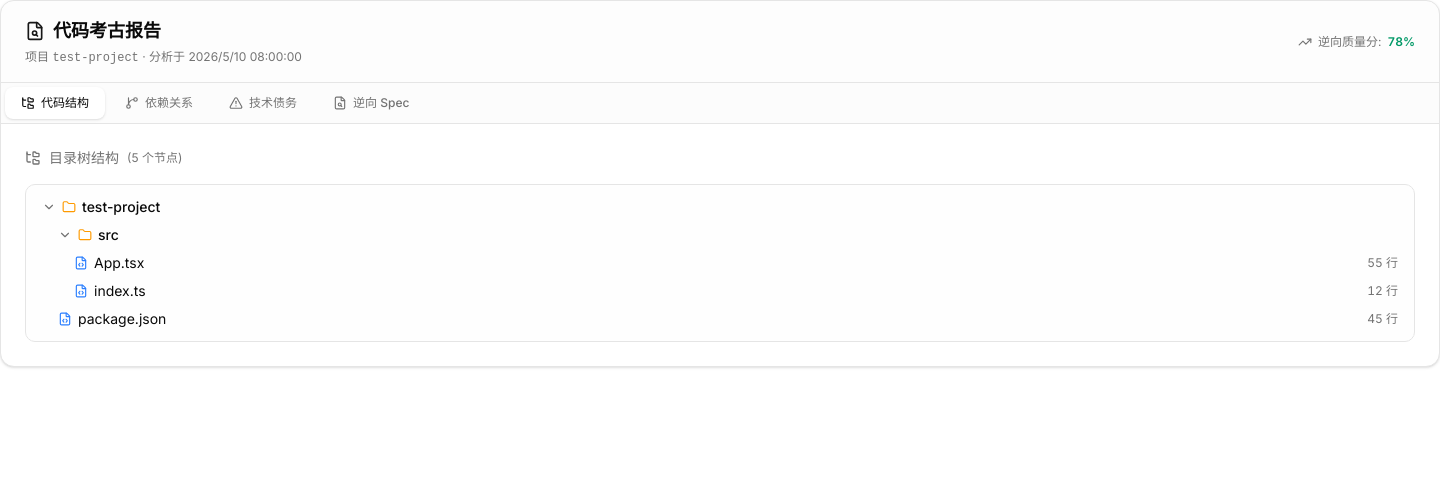
it: ArchaeologyReport › shows sorted tech debt items on tech debt tab
This screenshot has width=1440, height=498.
Click the button "技术债务".
click(263, 103)  # box [213,87,313,119]
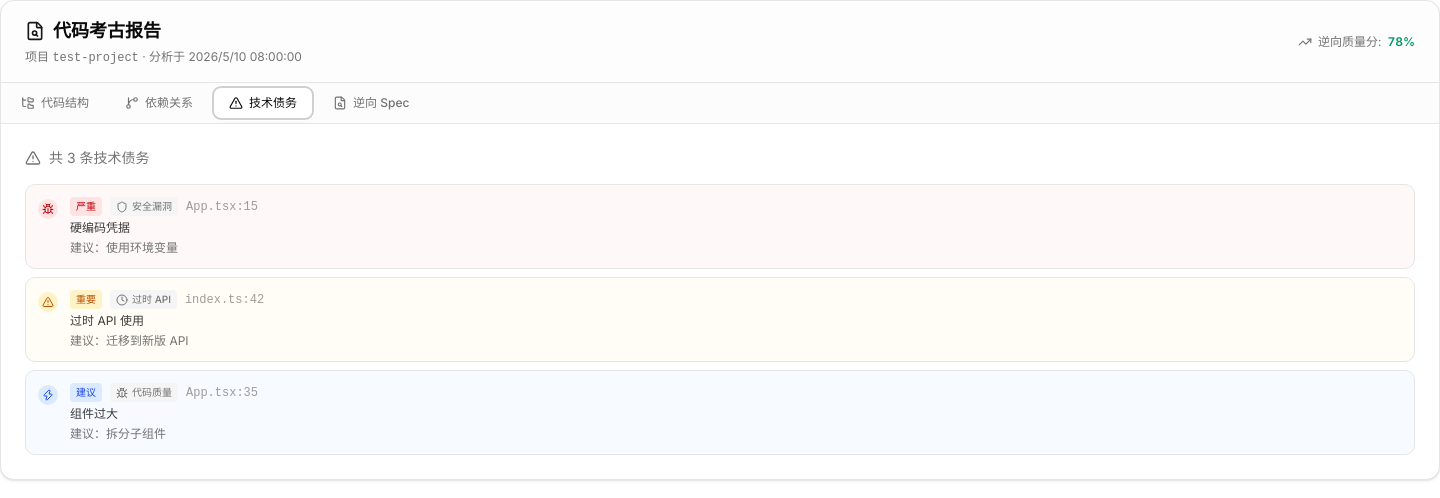
Expected: the text "严重" is shown, [70,197,102,216]
Expected: the text "重要" is shown, [70,290,102,309]
Expected: the text "建议" is shown, [70,383,102,402]
